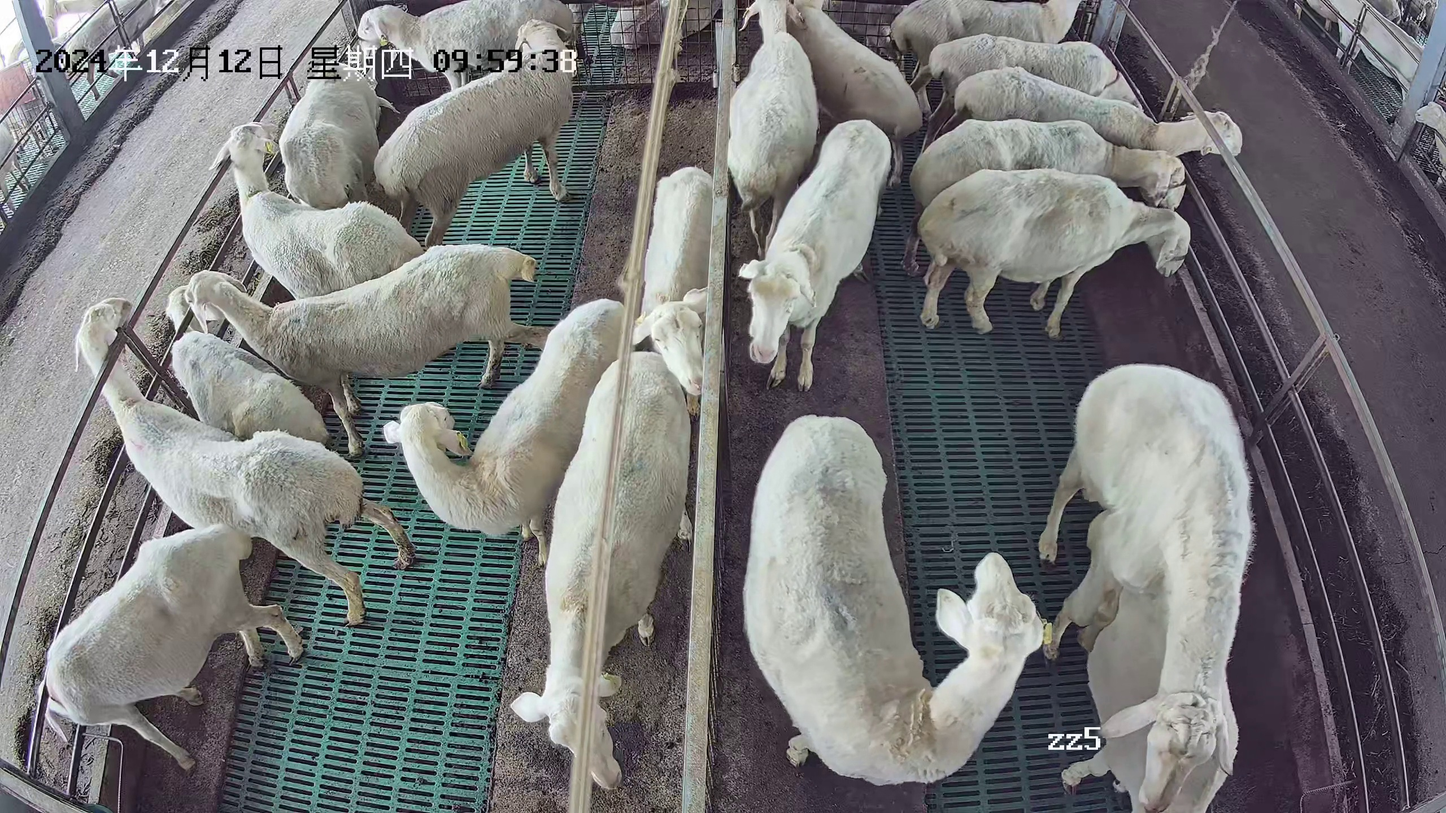Smounting: (1035, 360, 1258, 813)
mounted: (1039, 507, 1243, 813)
